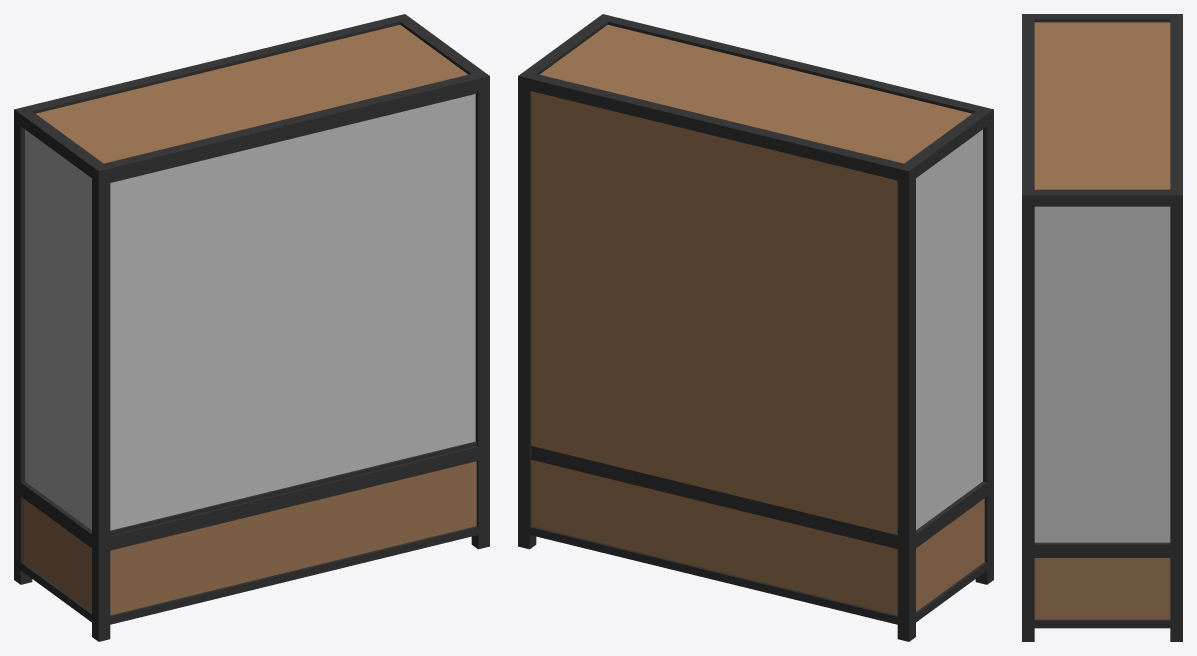
File: Int_TrophyShowcase01.fbx
3 renders of one model, left to right at view 1: azimuth 30°, elevation 25°; view 2: azimuth 150°, elevation 25°; view 3: azimuth 270°, elevation 25°, orthographic. The views are drawn at different scales.
Visible parts, largest first — view 1: Int_TrophyShowcase01; view 2: Int_TrophyShowcase01; view 3: Int_TrophyShowcase01.
Boxes of the visible parts, <box> form: Int_TrophyShowcase01: <box>14,14,489,641</box>; Int_TrophyShowcase01: <box>518,14,993,641</box>; Int_TrophyShowcase01: <box>1022,14,1182,641</box>.
Size of what is drawn, in the model's own units: 200 by 75 by 230.
